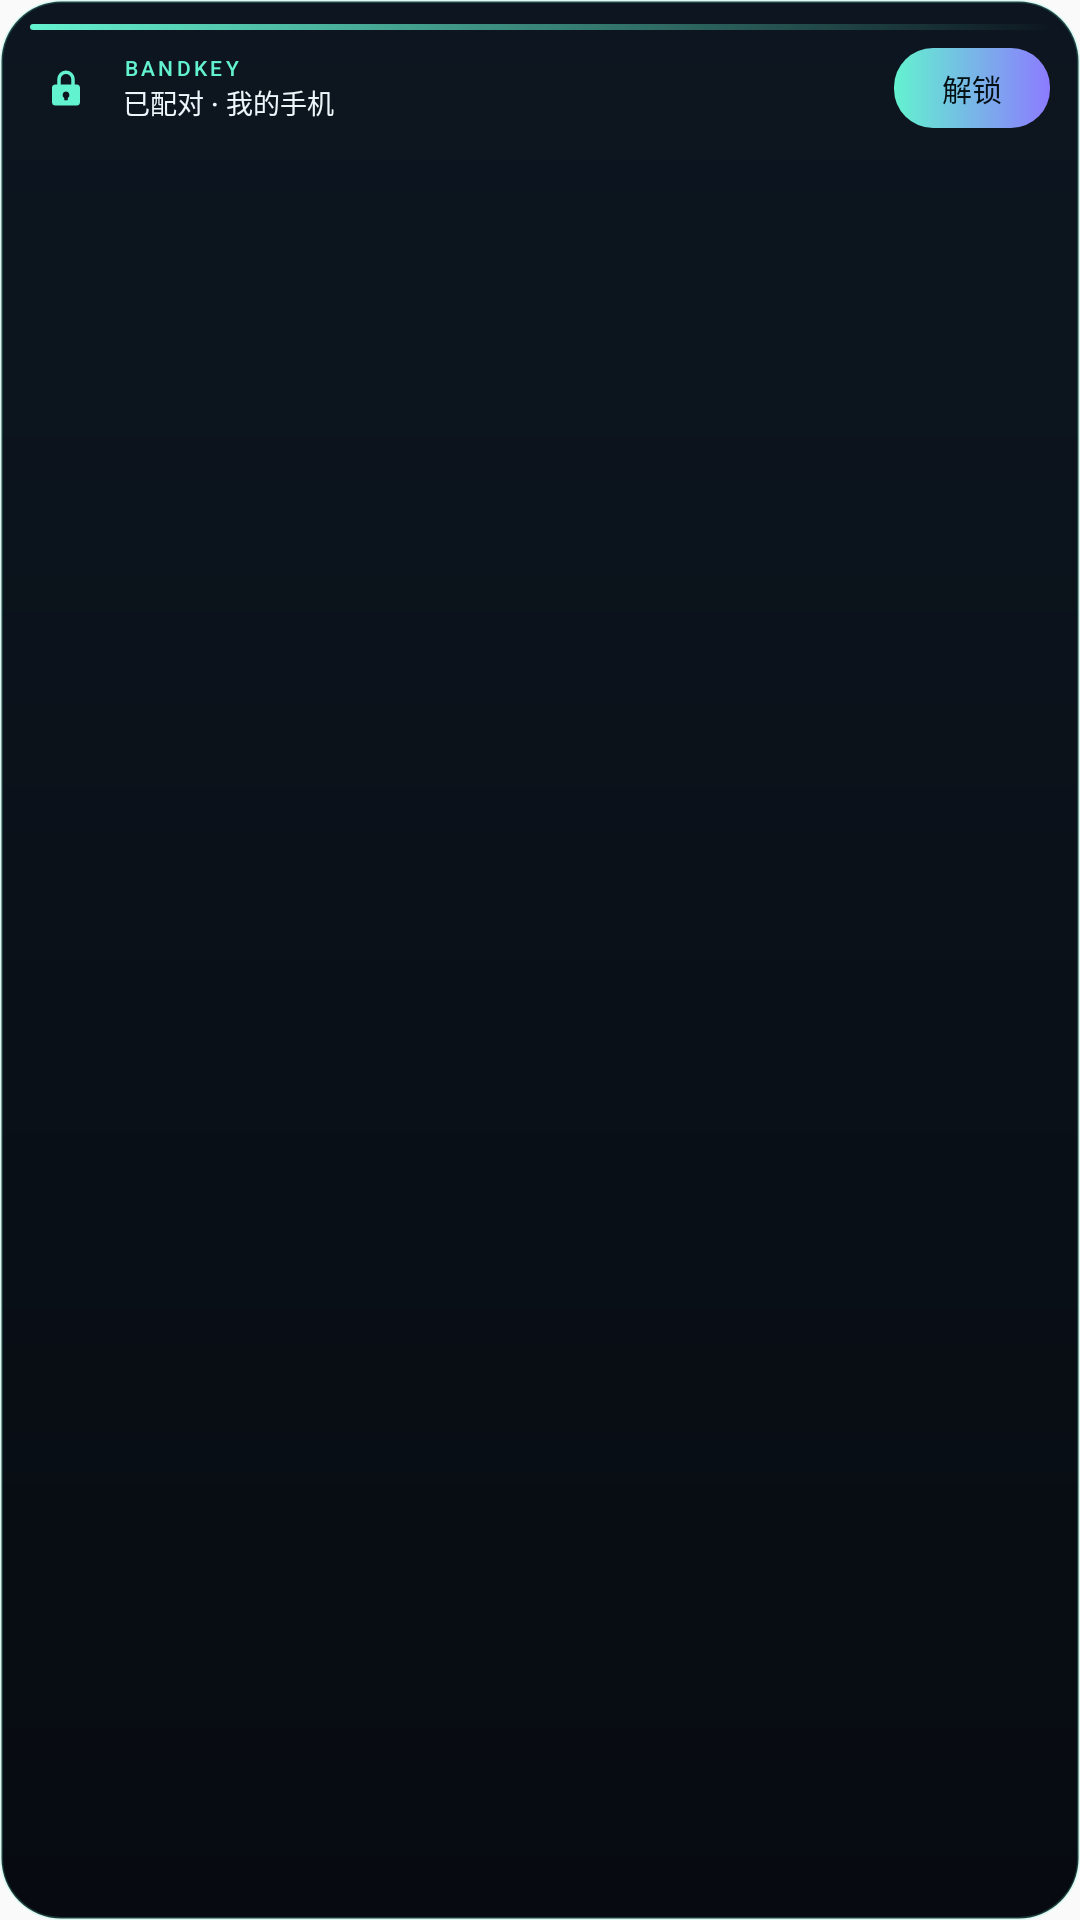

Where to tap for icons on this 1080*1920 app screen, as (x,y):
widget lock: (66,88)
